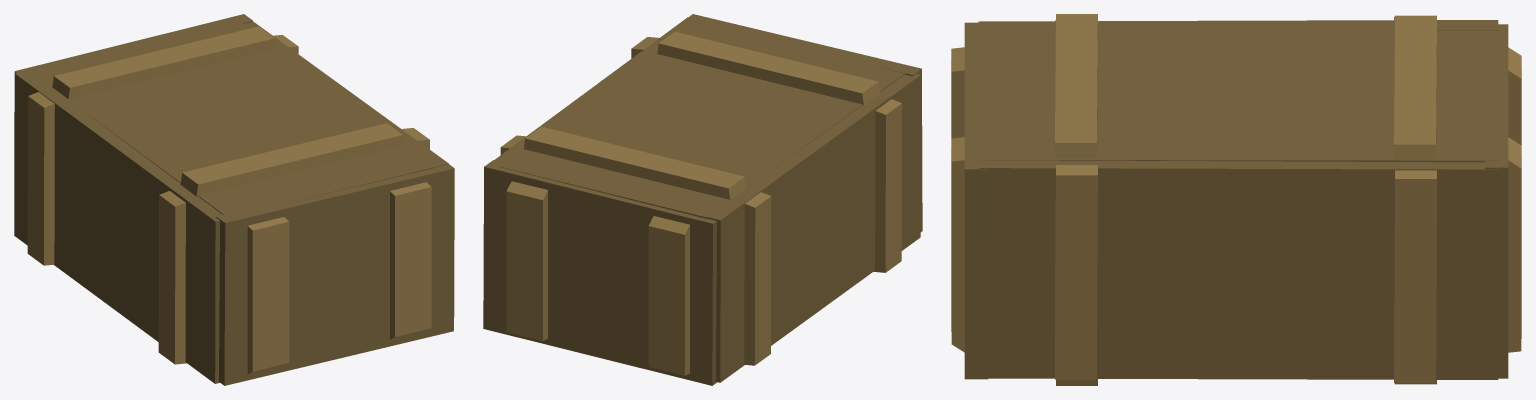
Rendered from Cart_3.FBX.
3 renders of one model, left to right at view 1: azimuth 30°, elevation 25°; view 2: azimuth 150°, elevation 25°; view 3: azimuth 270°, elevation 25°, orthographic. The views are drawn at different scales.
Visible parts, largest first — view 1: Cart_3; view 2: Cart_3; view 3: Cart_3.
Part boxes in pixels (x1,y1,x2,y2): Cart_3: (14, 14, 454, 385); Cart_3: (483, 14, 922, 385); Cart_3: (951, 14, 1521, 385).
Bounding box in the file's own units: 1.05 × 0.7314 × 1.57.
Materials: 1 (1 with a texture image).
